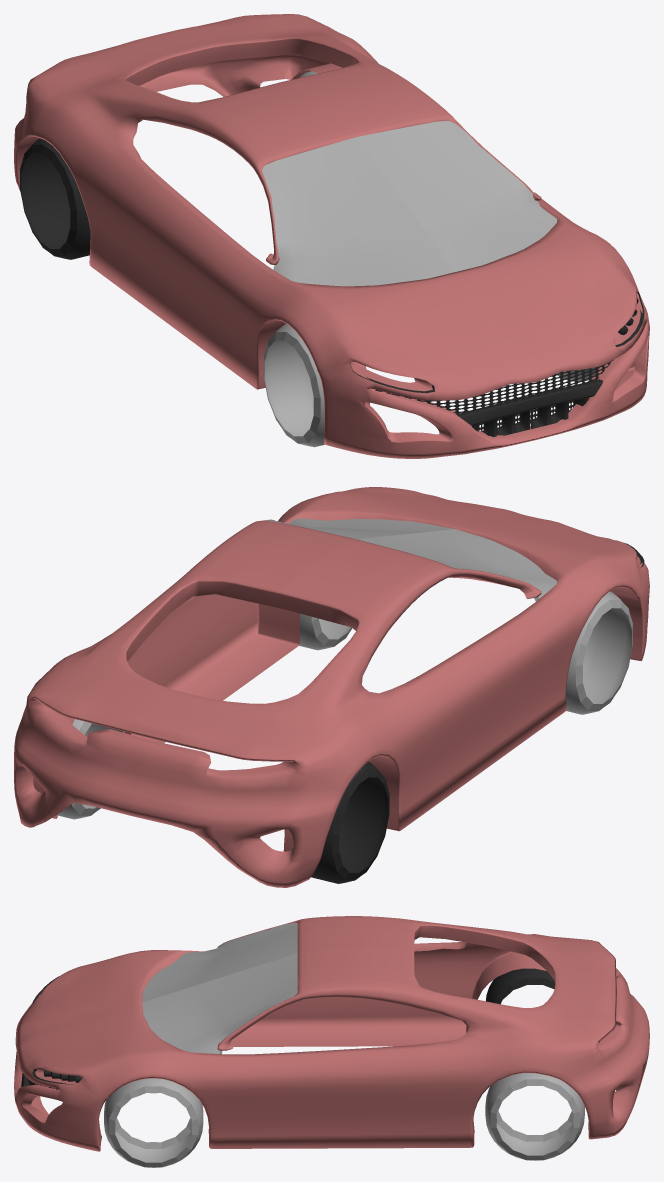
The model's file is CARKARI.fbx.
3 renders of one model, top to bottom at view 1: azimuth 30°, elevation 25°; view 2: azimuth 150°, elevation 25°; view 3: azimuth 270°, elevation 25°, orthographic. The views are drawn at different scales.
Parts seen in each view (by area): view 1: polySurface515, polySurface511, polySurface514, polySurface513, pCylinder4, pCylinder3, polySurface516, polySurface293, polySurface517, polySurface497, polySurface518, polySurface294; view 2: polySurface515, polySurface511, pCylinder3, pCylinder4, polySurface514, polySurface513, pCylinder2, pCylinder5; view 3: polySurface511, polySurface515, polySurface513, polySurface514, pCylinder2, pCylinder5, pCylinder4.
Boxes of the visible parts, x1,y1,x2,y2 form: polySurface515: (14,34,537,458); polySurface511: (140,14,649,439); polySurface514: (262,137,454,286); polySurface513: (356,121,557,271); pCylinder4: (20,138,90,259); pCylinder3: (263,324,324,447); polySurface516: (367,383,529,413); polySurface293: (528,379,602,409); polySurface517: (456,396,531,425); polySurface497: (530,360,613,397); polySurface518: (472,410,530,436); polySurface294: (530,397,589,429); polySurface515: (131,515,649,887); polySurface511: (14,487,524,827); pCylinder3: (565,591,632,714); pCylinder4: (284,761,389,883); polySurface514: (357,529,556,601); polySurface513: (265,518,454,539); pCylinder2: (299,613,352,650); pCylinder5: (57,719,124,819); polySurface511: (14,948,649,1151); polySurface515: (14,916,649,1084); polySurface513: (142,953,297,1053); polySurface514: (142,923,297,1001); pCylinder2: (104,1078,203,1167); pCylinder5: (485,1073,584,1160); pCylinder4: (486,968,554,1004).
Size of the model in its own units: 3.44 by 2.14 by 7.52.
